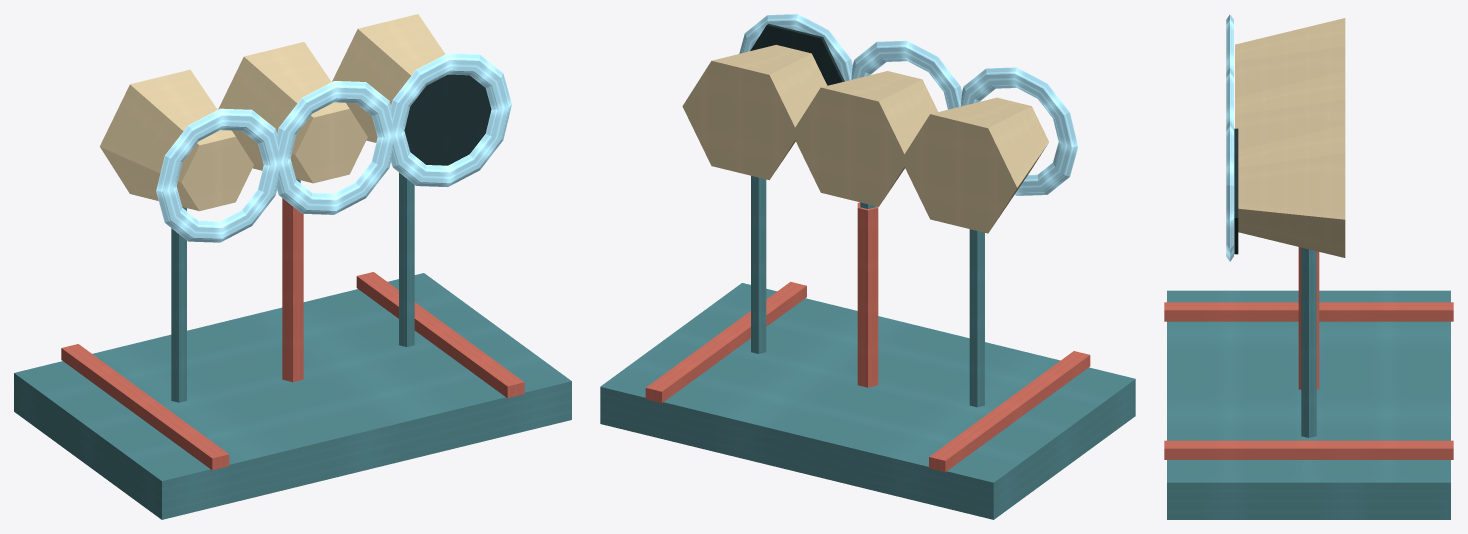
File: atlas100-s079-a02.lod2.glb
3 views of the same model, side by side, from view 1: azimuth 30°, elevation 25°; view 2: azimuth 150°, elevation 25°; view 3: azimuth 270°, elevation 25° (orthographic). The views are drawn at different scales.
Parts seen in each view (by area): view 1: atlas100-s079-a02:part-000, atlas100-s079-a02:part-006, atlas100-s079-a02:part-010, atlas100-s079-a02:part-008, atlas100-s079-a02:part-016, atlas100-s079-a02:part-012, atlas100-s079-a02:part-014, atlas100-s079-a02:part-015, atlas100-s079-a02:part-001, atlas100-s079-a02:part-002, atlas100-s079-a02:part-003, atlas100-s079-a02:part-005 (+1 smaller); view 2: atlas100-s079-a02:part-000, atlas100-s079-a02:part-006, atlas100-s079-a02:part-010, atlas100-s079-a02:part-014, atlas100-s079-a02:part-008, atlas100-s079-a02:part-001, atlas100-s079-a02:part-003, atlas100-s079-a02:part-002, atlas100-s079-a02:part-005, atlas100-s079-a02:part-013, atlas100-s079-a02:part-012, atlas100-s079-a02:part-015 (+1 smaller); view 3: atlas100-s079-a02:part-000, atlas100-s079-a02:part-014, atlas100-s079-a02:part-006, atlas100-s079-a02:part-010, atlas100-s079-a02:part-002, atlas100-s079-a02:part-001, atlas100-s079-a02:part-013, atlas100-s079-a02:part-003, atlas100-s079-a02:part-016, atlas100-s079-a02:part-015, atlas100-s079-a02:part-008, atlas100-s079-a02:part-012.
Boxes of the visible parts, box(x1,y1,x2,y2) form: atlas100-s079-a02:part-000: box(14, 273, 571, 519); atlas100-s079-a02:part-006: box(100, 69, 253, 211); atlas100-s079-a02:part-010: box(218, 42, 367, 183); atlas100-s079-a02:part-008: box(156, 108, 280, 242); atlas100-s079-a02:part-016: box(391, 53, 511, 187); atlas100-s079-a02:part-012: box(277, 81, 394, 214); atlas100-s079-a02:part-014: box(332, 14, 445, 142); atlas100-s079-a02:part-015: box(404, 74, 491, 165); atlas100-s079-a02:part-001: box(61, 344, 229, 470); atlas100-s079-a02:part-002: box(356, 272, 524, 398); atlas100-s079-a02:part-003: box(282, 198, 303, 382); atlas100-s079-a02:part-005: box(171, 207, 186, 402); atlas100-s079-a02:part-000: box(600, 283, 1135, 519); atlas100-s079-a02:part-006: box(901, 97, 1048, 233); atlas100-s079-a02:part-010: box(792, 71, 937, 206); atlas100-s079-a02:part-014: box(682, 45, 827, 180); atlas100-s079-a02:part-008: box(960, 67, 1078, 195); atlas100-s079-a02:part-001: box(929, 351, 1090, 472); atlas100-s079-a02:part-003: box(857, 202, 878, 387); atlas100-s079-a02:part-002: box(645, 281, 806, 402); atlas100-s079-a02:part-005: box(969, 229, 984, 407); atlas100-s079-a02:part-013: box(751, 176, 766, 353); atlas100-s079-a02:part-012: box(851, 40, 961, 109); atlas100-s079-a02:part-015: box(750, 23, 844, 85); atlas100-s079-a02:part-000: box(1167, 290, 1450, 519); atlas100-s079-a02:part-014: box(1238, 124, 1345, 257); atlas100-s079-a02:part-006: box(1235, 18, 1345, 97); atlas100-s079-a02:part-010: box(1235, 71, 1345, 150); atlas100-s079-a02:part-002: box(1164, 440, 1453, 459); atlas100-s079-a02:part-001: box(1164, 302, 1453, 321); atlas100-s079-a02:part-013: box(1301, 247, 1316, 437); atlas100-s079-a02:part-003: box(1298, 247, 1319, 389); atlas100-s079-a02:part-016: box(1226, 121, 1233, 261); atlas100-s079-a02:part-015: box(1234, 128, 1238, 254); atlas100-s079-a02:part-008: box(1226, 14, 1233, 72); atlas100-s079-a02:part-012: box(1226, 67, 1233, 125).
Size of the model in its own units: 2.88 by 2.45 by 1.84.
Materials: 5 (5 with a texture image).
